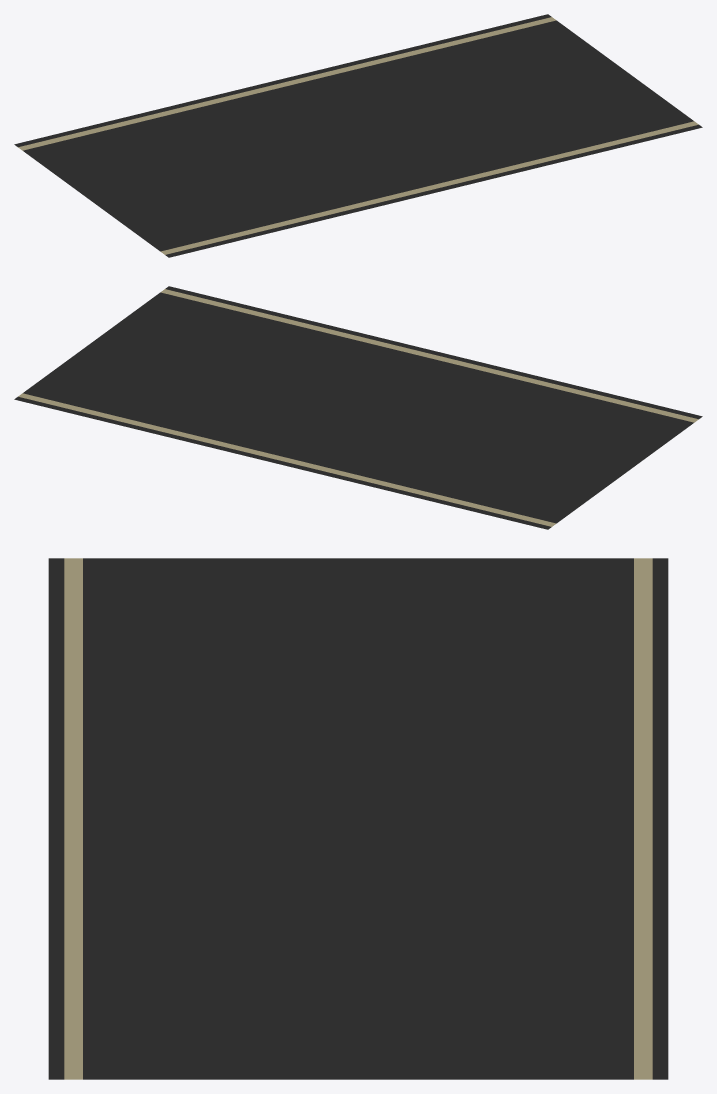
The model's file is road (2).fbx.
The picture shows the model from 3 angles, top to bottom: view 1: azimuth 30°, elevation 25°; view 2: azimuth 150°, elevation 25°; view 3: azimuth 270°, elevation 25°; orthographic projection. The views are drawn at different scales.
Parts seen in each view (by area): view 1: Plane; view 2: Plane; view 3: Plane.
Part boxes in pixels (x1,y1,x2,y2): Plane: [14, 14, 702, 257]; Plane: [14, 286, 702, 529]; Plane: [48, 558, 668, 1079].
Bounding box in the file's own units: 1596 × 0.000131 × 802.
